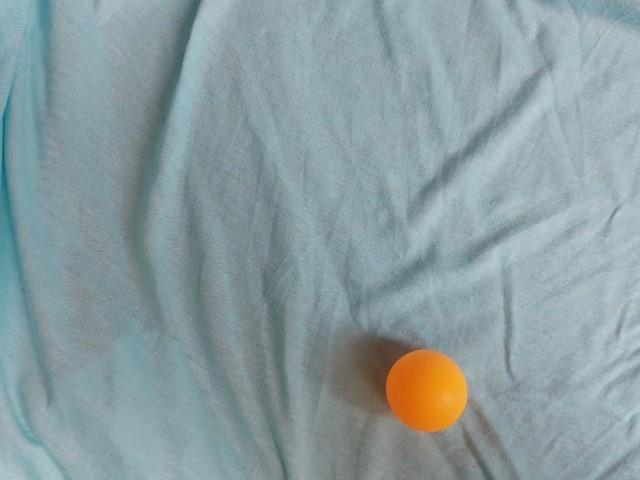oball: (163, 42, 263, 139)
